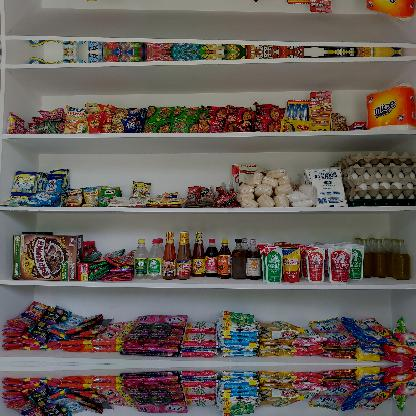Koko-Krunch: (11, 232, 84, 280)
